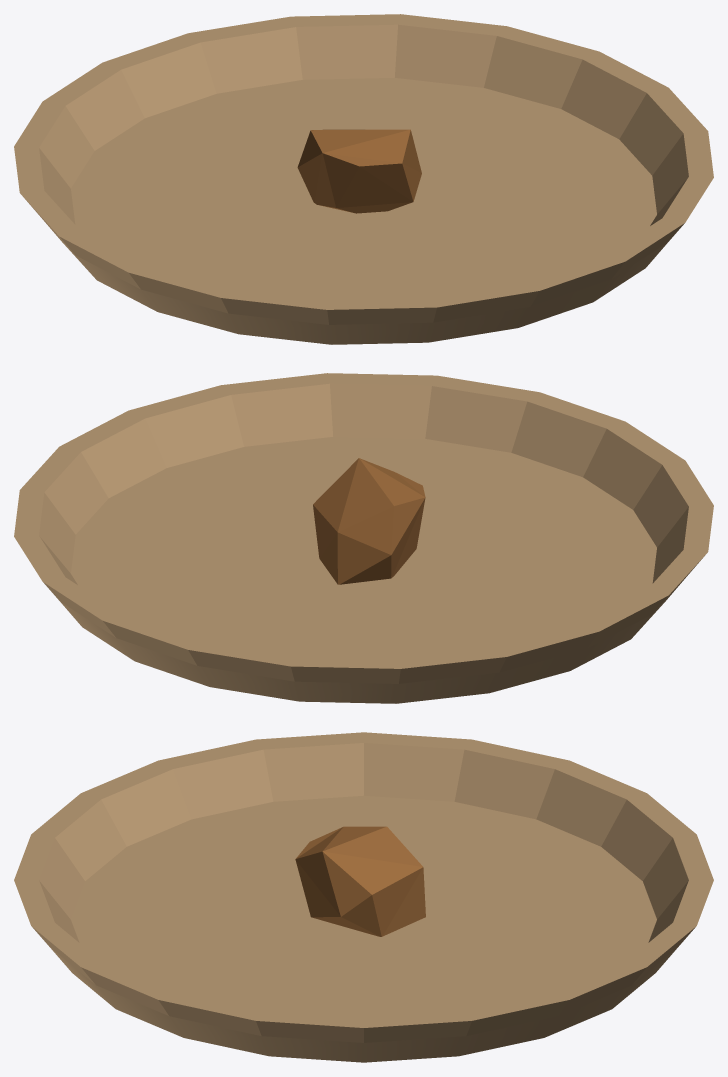
File: Vessel_1.fbx
3 views of the same model, one above another, from view 1: azimuth 30°, elevation 25°; view 2: azimuth 150°, elevation 25°; view 3: azimuth 270°, elevation 25° (orthographic).
Visible parts, largest first — view 1: Saucer, CopperPieceBig1; view 2: Saucer, CopperPieceBig1; view 3: Saucer, CopperPieceBig1.
Boxes of the visible parts, x1,y1,x2,y2 form: Saucer: [14, 14, 713, 344]; CopperPieceBig1: [297, 129, 421, 213]; Saucer: [14, 373, 713, 703]; CopperPieceBig1: [313, 458, 425, 584]; Saucer: [14, 732, 713, 1062]; CopperPieceBig1: [295, 826, 425, 936].
Bounding box in the file's own units: 21.13 × 3.13 × 21.13.
